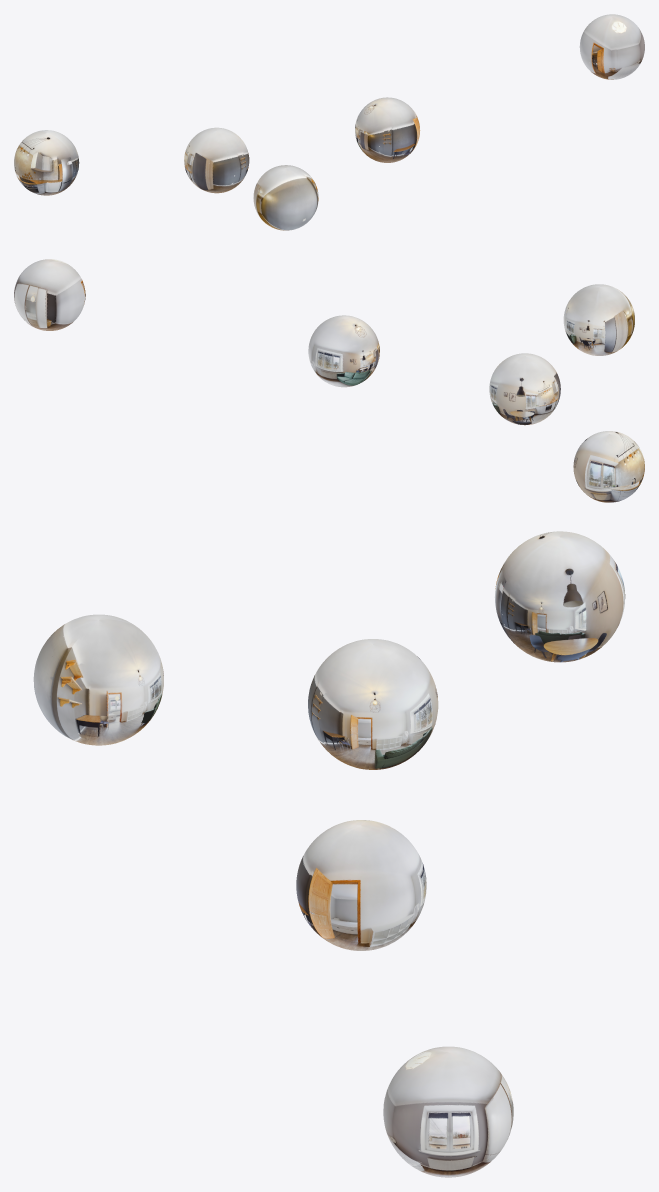
Rendered from Panos.glb.
3 views of the same model, one above another, from view 1: azimuth 30°, elevation 25°; view 2: azimuth 150°, elevation 25°; view 3: azimuth 270°, elevation 25° (orthographic). The views are drawn at different scales.
Parts seen in each view (by area): view 1: Panorama_1, Panorama_3, Panorama_4, Panorama_2, Panorama_5; view 2: Panorama_4, Panorama_1, Panorama_3, Panorama_5, Panorama_2; view 3: Panorama_5, Panorama_4, Panorama_2, Panorama_3, Panorama_1.
Part boxes in pixels (left/top/right/bottom): Panorama_1: left=253, top=165, right=318, bottom=230; Panorama_3: left=184, top=127, right=249, bottom=193; Panorama_4: left=355, top=97, right=420, bottom=162; Panorama_2: left=14, top=130, right=79, bottom=195; Panorama_5: left=579, top=14, right=644, bottom=79; Panorama_4: left=308, top=315, right=379, bottom=387; Panorama_1: left=563, top=284, right=634, bottom=355; Panorama_3: left=489, top=353, right=560, bottom=425; Panorama_5: left=14, top=259, right=85, bottom=330; Panorama_2: left=573, top=431, right=644, bottom=502; Panorama_5: left=383, top=1046, right=513, bottom=1177; Panorama_4: left=296, top=820, right=426, bottom=950; Panorama_2: left=494, top=531, right=625, bottom=662; Panorama_3: left=308, top=639, right=438, bottom=769; Panorama_1: left=33, top=614, right=163, bottom=745.
Size of the model in its own units: 7.54 by 0.9809 by 3.25.
5 materials, 5 textured.
